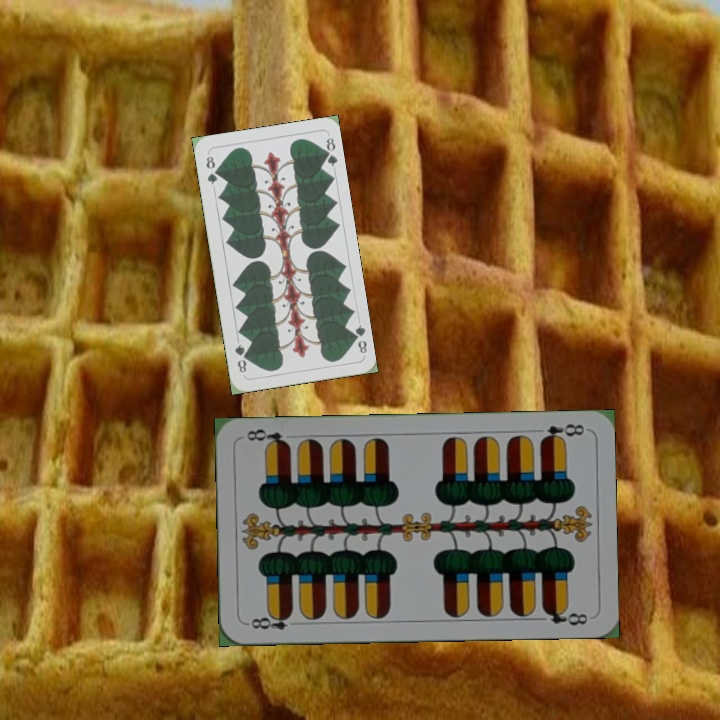E8: (243, 609, 303, 632), (537, 419, 587, 445)
G8: (347, 321, 370, 356), (202, 152, 221, 187)
